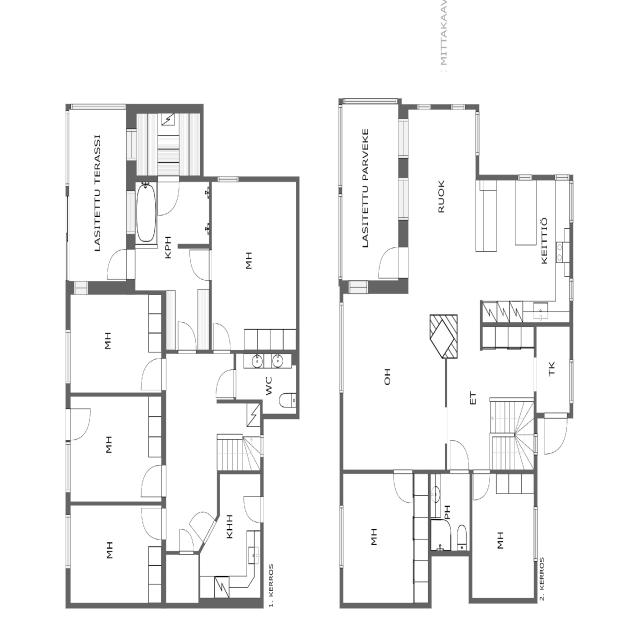door: (206, 465, 265, 583), (538, 412, 570, 457), (155, 168, 182, 221), (183, 506, 214, 550), (64, 402, 94, 444), (187, 243, 216, 286), (443, 434, 472, 475), (375, 244, 405, 283), (137, 462, 166, 502), (138, 354, 166, 394), (138, 502, 166, 542), (174, 315, 199, 355), (391, 467, 415, 507), (104, 246, 131, 280), (240, 491, 266, 526), (210, 317, 233, 356), (470, 465, 492, 504), (214, 364, 237, 401), (176, 524, 196, 558)
window: (334, 106, 347, 287), (334, 102, 346, 196), (60, 107, 73, 193), (336, 298, 346, 398), (396, 164, 410, 227), (336, 192, 346, 280), (62, 507, 74, 576), (62, 323, 73, 388), (123, 124, 139, 168), (342, 275, 372, 298), (62, 438, 73, 498), (532, 503, 542, 568), (471, 108, 483, 160), (123, 188, 136, 236), (396, 118, 409, 164), (337, 499, 345, 570), (566, 174, 576, 227), (70, 276, 93, 298), (214, 171, 243, 187), (567, 356, 575, 406), (514, 170, 535, 187), (566, 274, 576, 306), (532, 354, 540, 394), (448, 100, 470, 114), (258, 433, 268, 460), (532, 436, 540, 455)
zone: (339, 290, 446, 470), (408, 107, 477, 369), (209, 177, 299, 354), (476, 177, 572, 324), (66, 394, 164, 506), (341, 472, 420, 606), (67, 290, 165, 394), (66, 503, 164, 605), (472, 474, 536, 604), (202, 472, 262, 602), (134, 108, 203, 176), (234, 352, 298, 413), (151, 173, 205, 244), (534, 324, 573, 416), (429, 469, 471, 552), (164, 553, 200, 605), (134, 180, 157, 247)
